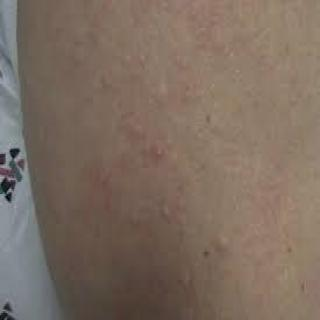urticaria: (67, 44, 202, 196), (121, 206, 245, 286), (224, 34, 280, 140)
